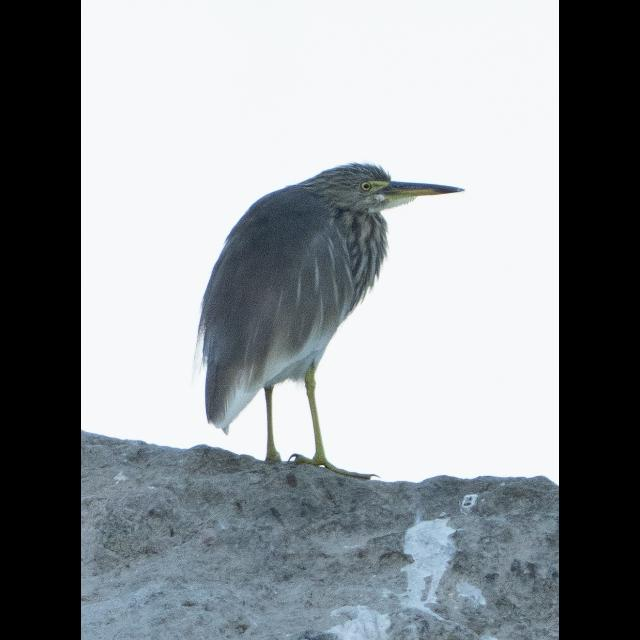heron: (196, 158, 468, 494)
